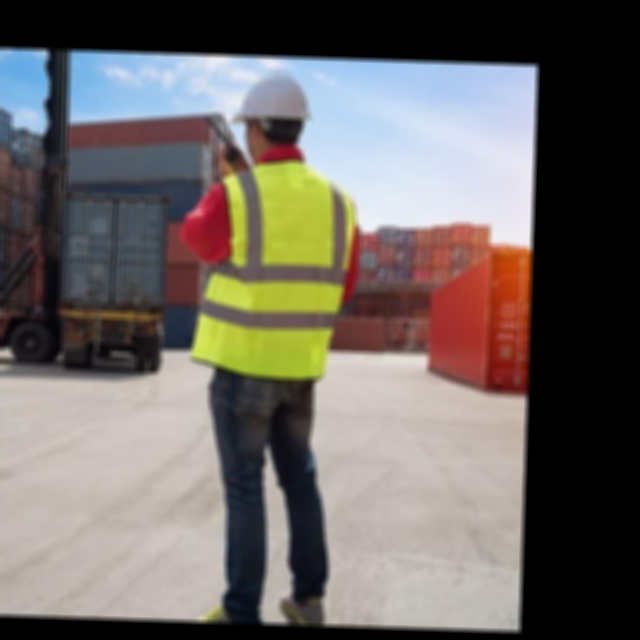Con_Casco: (234, 68, 318, 164)
Con_Chaleco: (189, 164, 361, 377)
